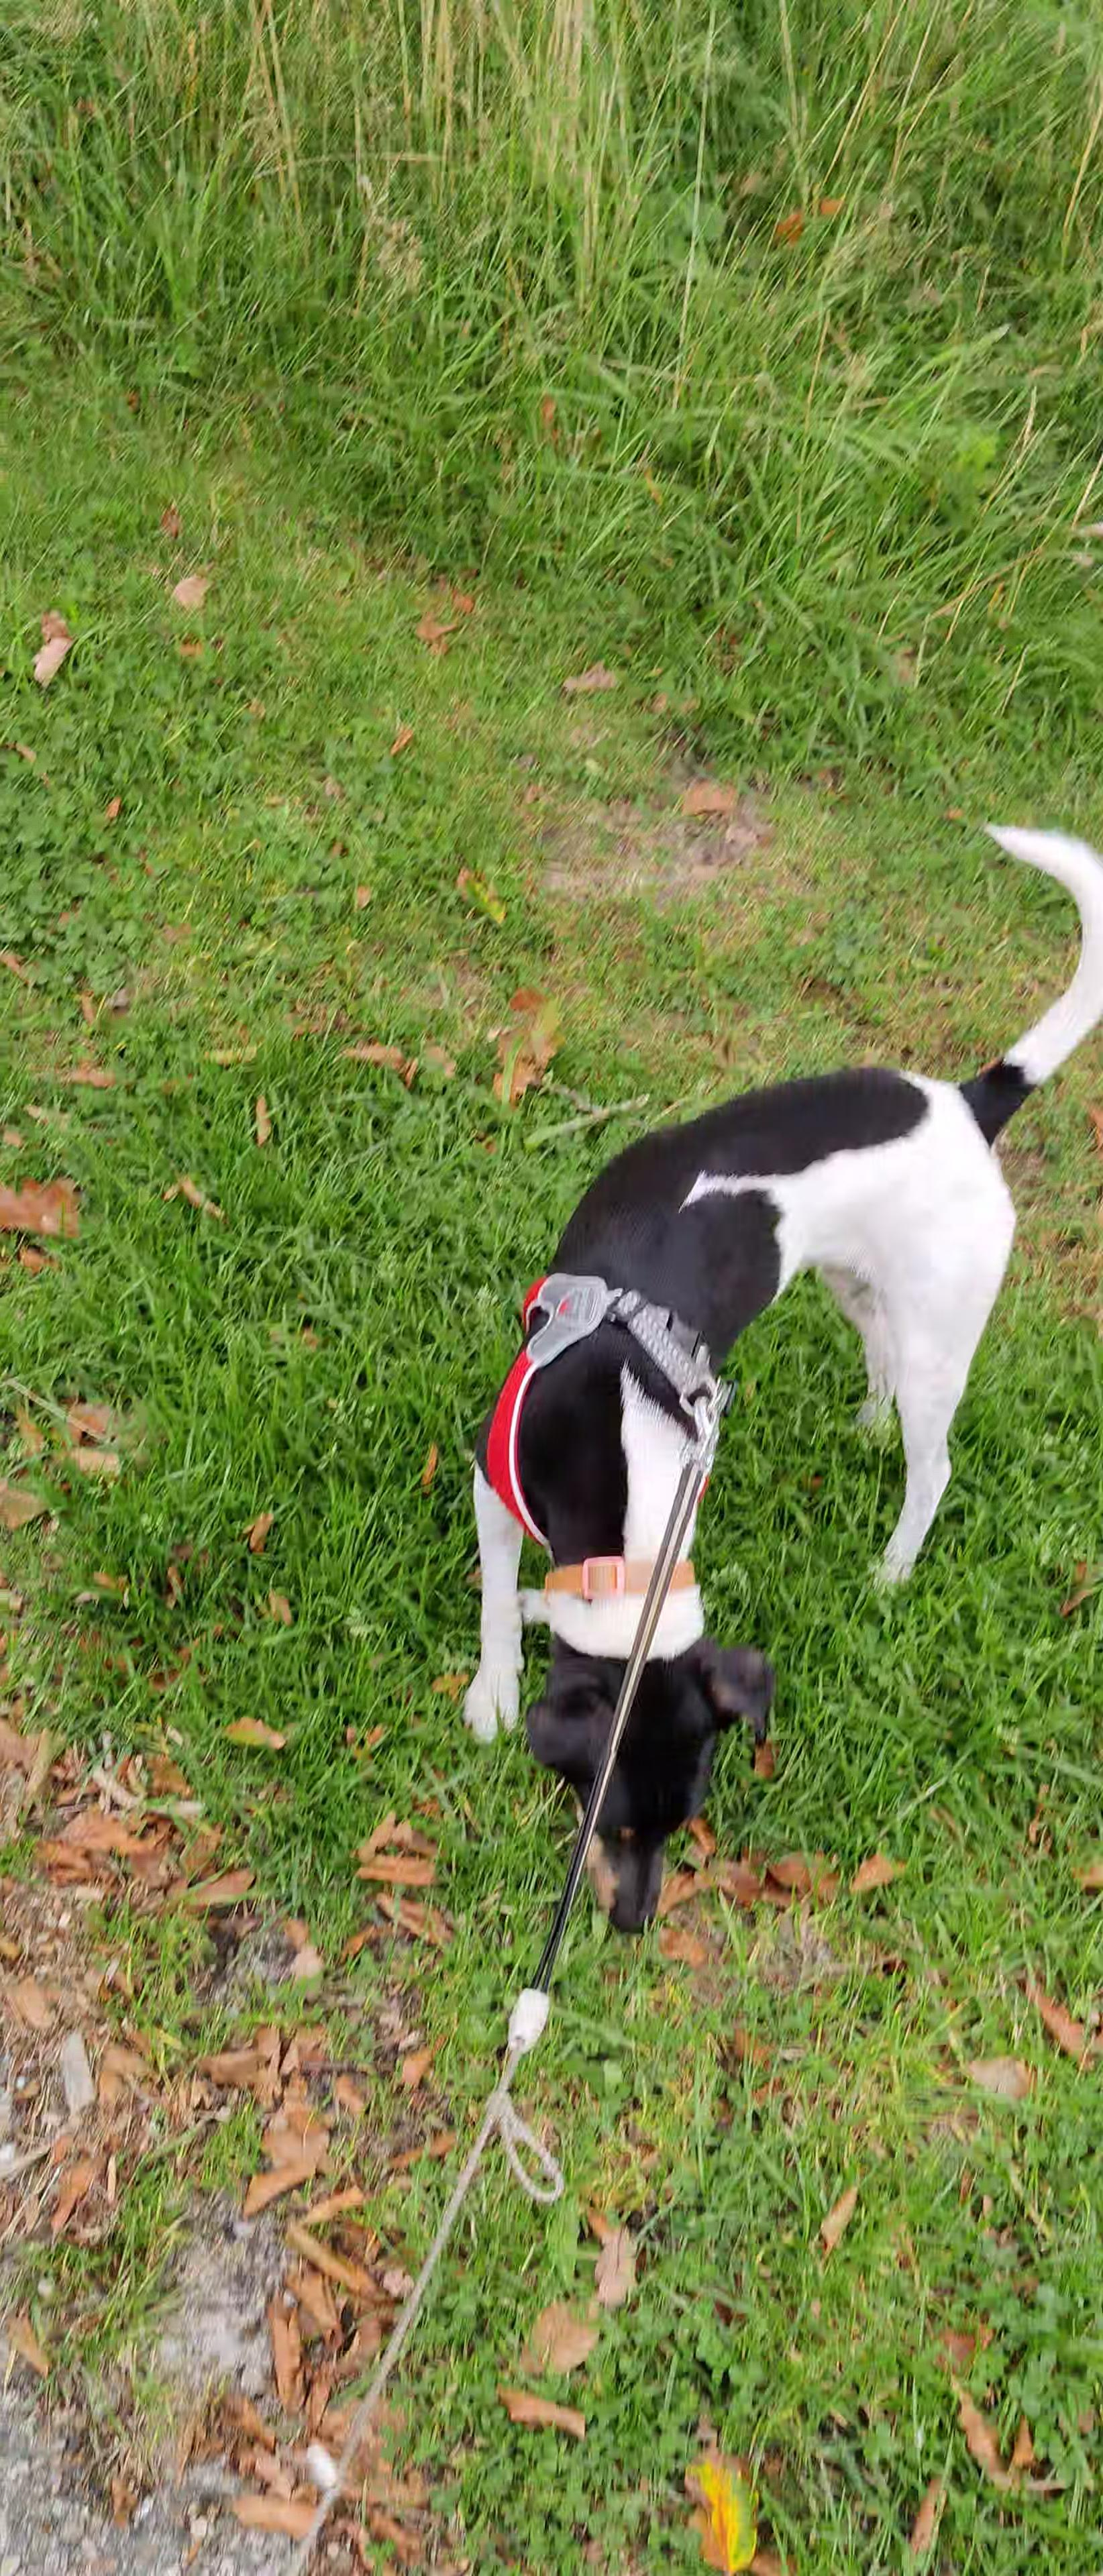Dog: (399, 793, 1103, 1950)
